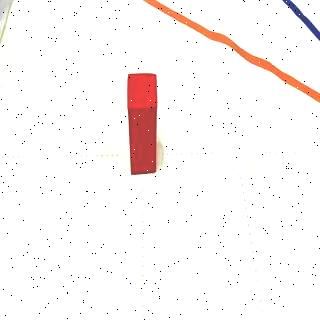redbox: (127, 72, 158, 174)
